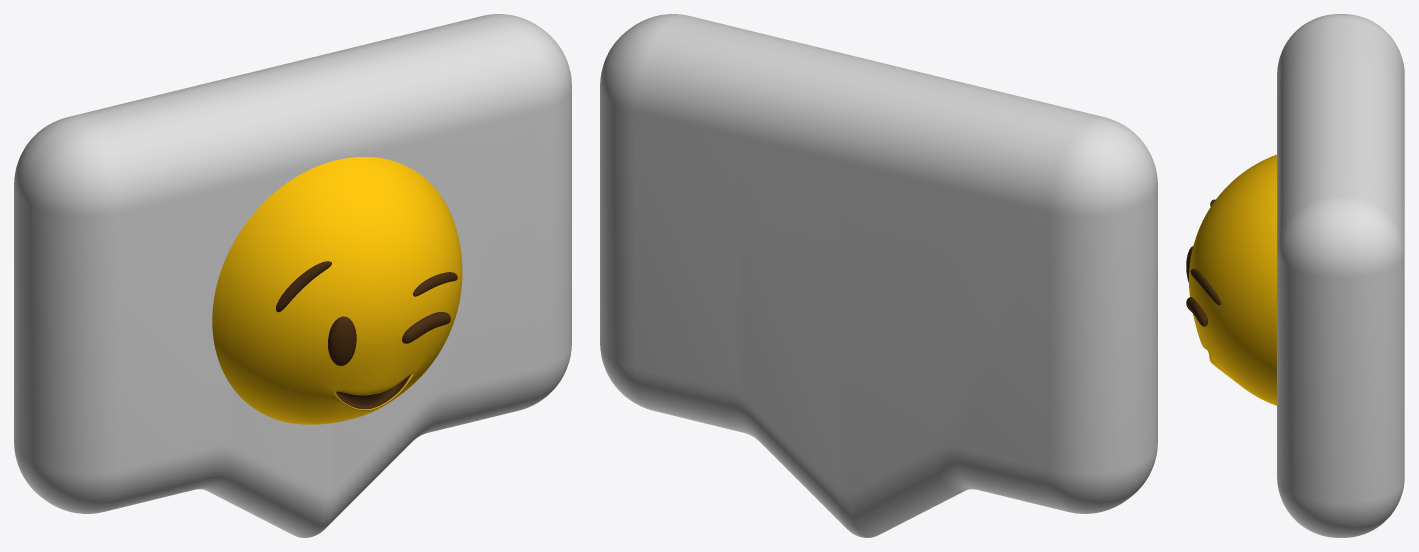
Rendered from Message.glb.
3 renders of one model, left to right at view 1: azimuth 30°, elevation 25°; view 2: azimuth 150°, elevation 25°; view 3: azimuth 270°, elevation 25°, orthographic. The views are drawn at different scales.
Parts seen in each view (by area): view 1: Cube.016, Sphere, Sphere.002, Plane.009, Cube.004; view 2: Cube.016; view 3: Cube.016, Sphere, Plane.010, Cube.004.
Boxes of the visible parts, x1=… form: Cube.016: x1=14, y1=14, x2=571, y2=537; Sphere: x1=212, y1=157, x2=462, y2=424; Sphere.002: x1=328, y1=316, x2=356, y2=365; Plane.009: x1=276, y1=261, x2=331, y2=312; Cube.004: x1=402, y1=312, x2=450, y2=343; Cube.016: x1=600, y1=14, x2=1157, y2=537; Cube.016: x1=1277, y1=14, x2=1404, y2=537; Sphere: x1=1189, y1=154, x2=1276, y2=405; Plane.010: x1=1190, y1=268, x2=1221, y2=305; Cube.004: x1=1186, y1=297, x2=1207, y2=326.
Size of the model in its own units: 0.5104 by 0.418 by 0.206.
